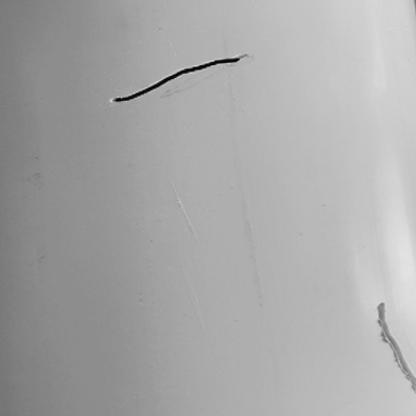fengxi: (113, 54, 247, 105)
sunshang: (373, 301, 416, 394)
